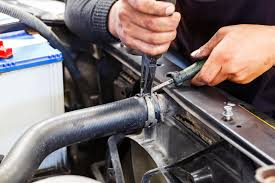radiator_hose: (1, 95, 151, 181)
